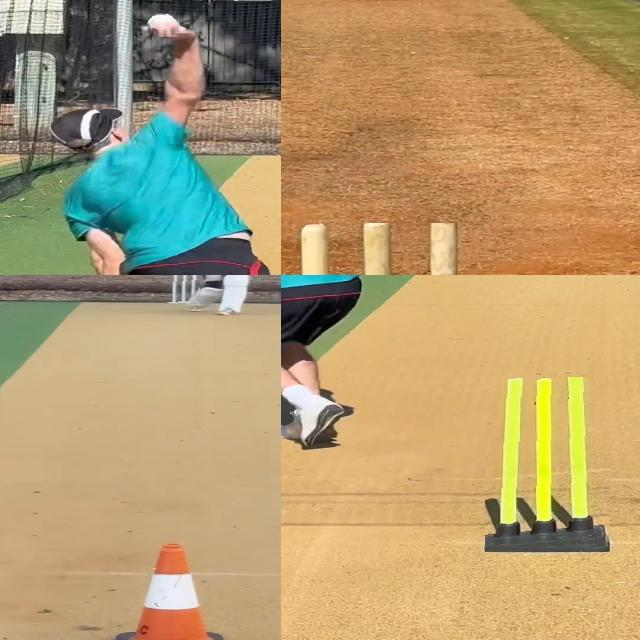Cricket ball: (145, 13, 179, 34)
Stumps: (485, 377, 613, 552), (298, 223, 461, 275), (172, 275, 201, 305)
